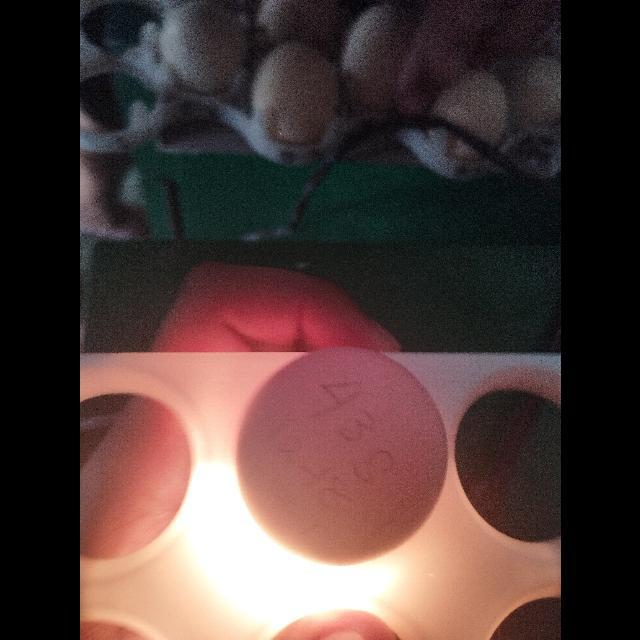B - Fair: (233, 345, 449, 569)
